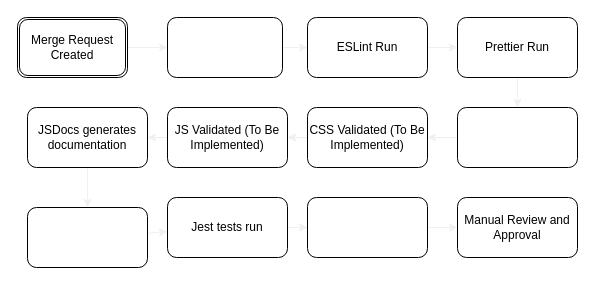
The diagram is 595 pixels wide and 285 high, and some of its shapes have lost their labels. The shapes that lost their labels are listed below. From the top down, each one's centre as x and y in pixels, then its label:
At point 224,47: "Code checked out for pipeline to run".
At point 517,137: "HTML Validated".
At point 87,237: "Code Quality assesed (To Be Implemented)".
At point 367,227: "Cypress Tests Run ((To Be Implemented)".
